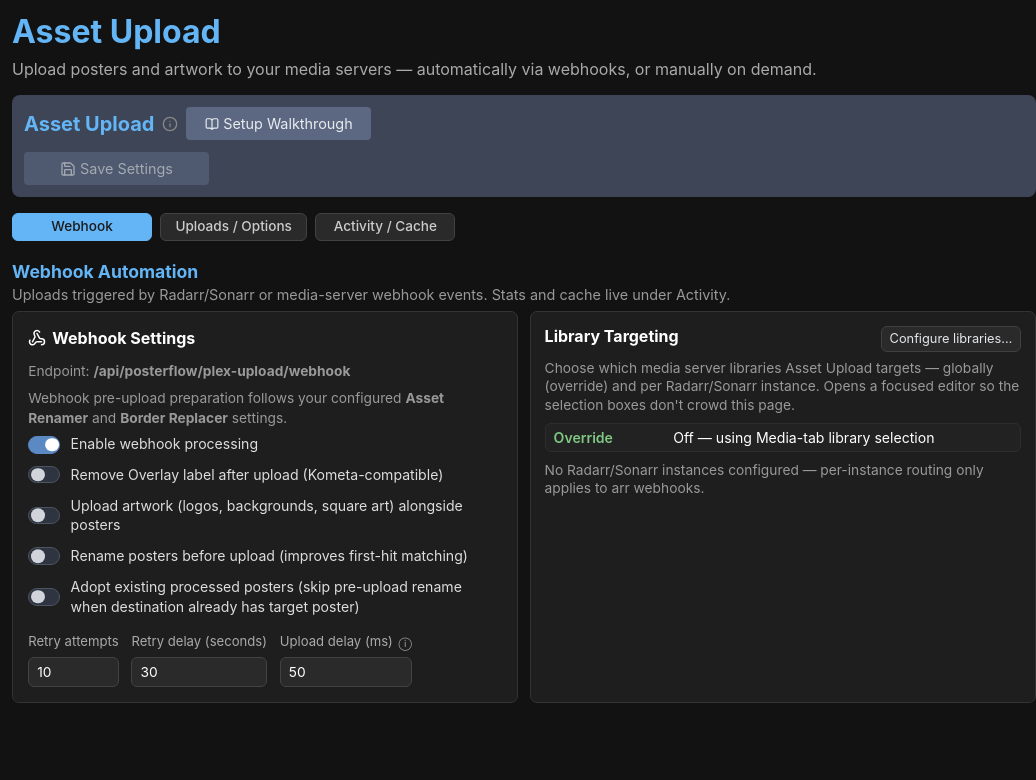
PlexUpload › offers no Save on the Activity tab
Click the button "Activity / Cache" at (385, 227), box x1=315 y1=213 x2=455 y2=241
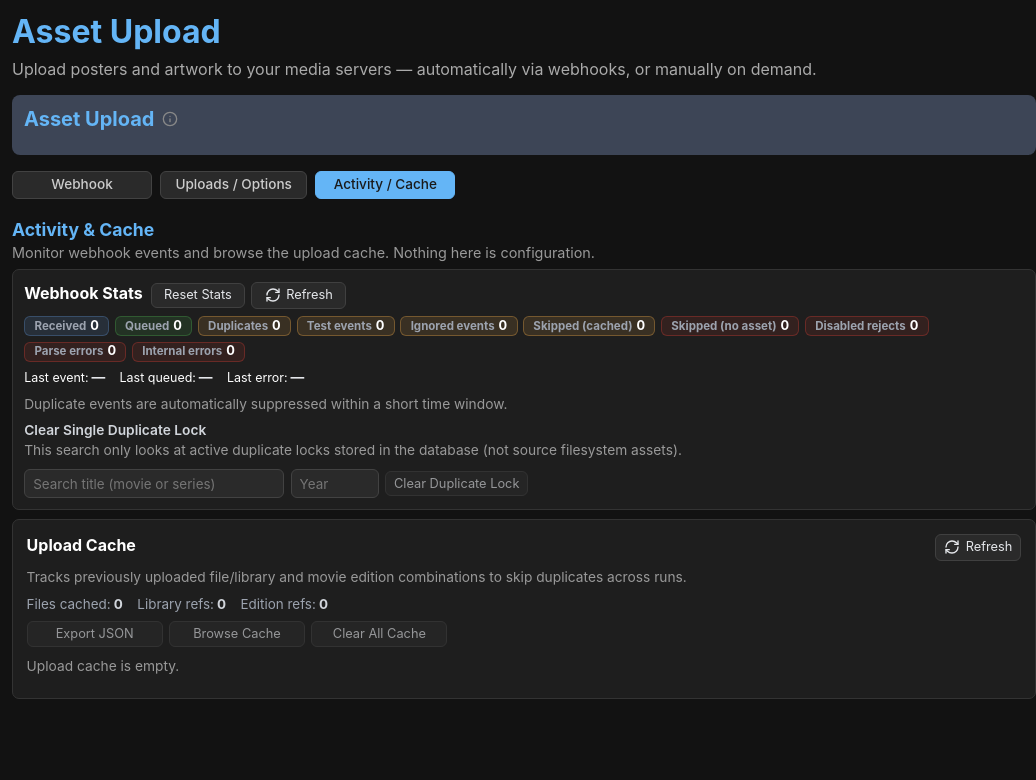
Now the button "Save Settings" is gone
